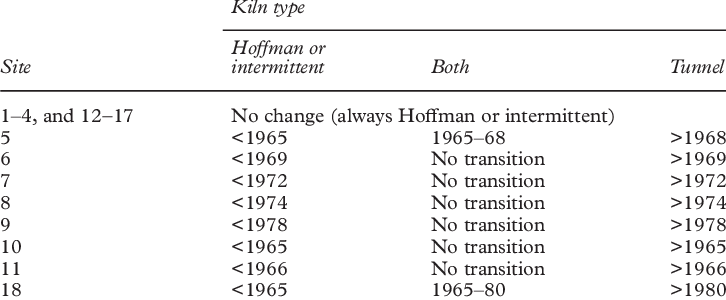fracking table: (1, 1, 726, 300)
